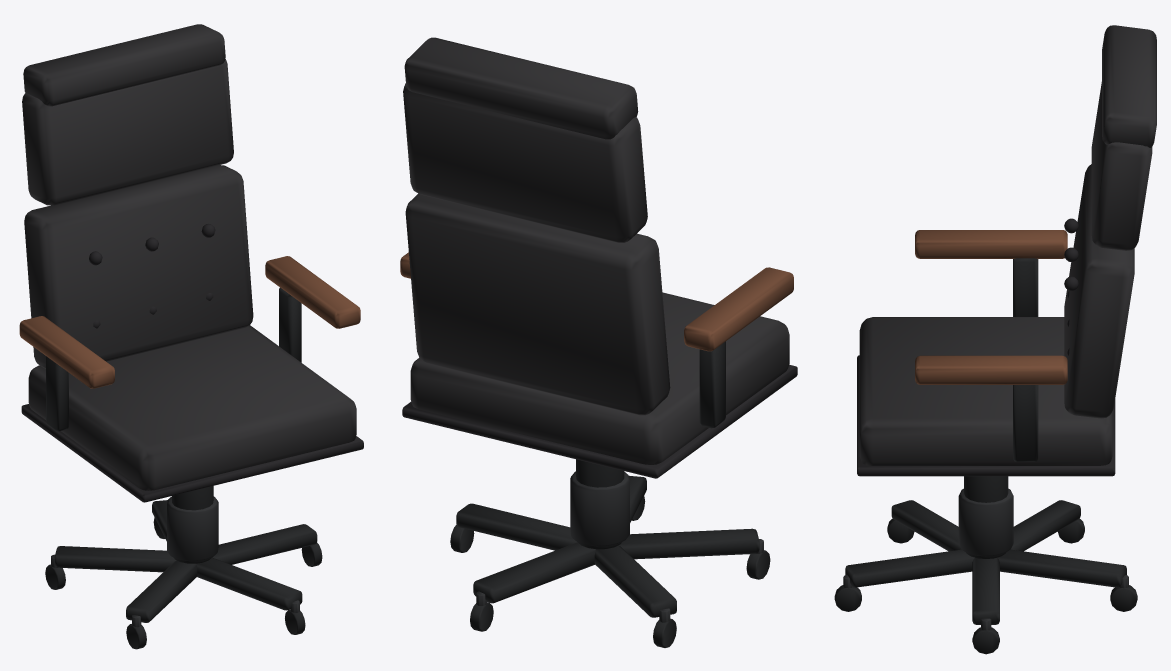
Rendered from asset_081_office_chair_sheet09.glb.
3 renders of one model, left to right at view 1: azimuth 30°, elevation 25°; view 2: azimuth 150°, elevation 25°; view 3: azimuth 270°, elevation 25°, orthographic. The views are drawn at different scales.
Parts seen in each view (by area): view 1: MESH_ChairSeatAssembly, MESH_ChairBaseAssembly; view 2: MESH_ChairSeatAssembly, MESH_ChairBaseAssembly; view 3: MESH_ChairSeatAssembly, MESH_ChairBaseAssembly.
Boxes of the visible parts, x1,y1,x2,y2 form: MESH_ChairSeatAssembly: (19, 24, 363, 502); MESH_ChairBaseAssembly: (45, 486, 322, 649); MESH_ChairSeatAssembly: (400, 37, 797, 478); MESH_ChairBaseAssembly: (450, 459, 770, 647); MESH_ChairSeatAssembly: (857, 25, 1156, 476); MESH_ChairBaseAssembly: (834, 476, 1137, 654).
Bounding box in the file's own units: 0.626 × 1.1 × 0.624.
